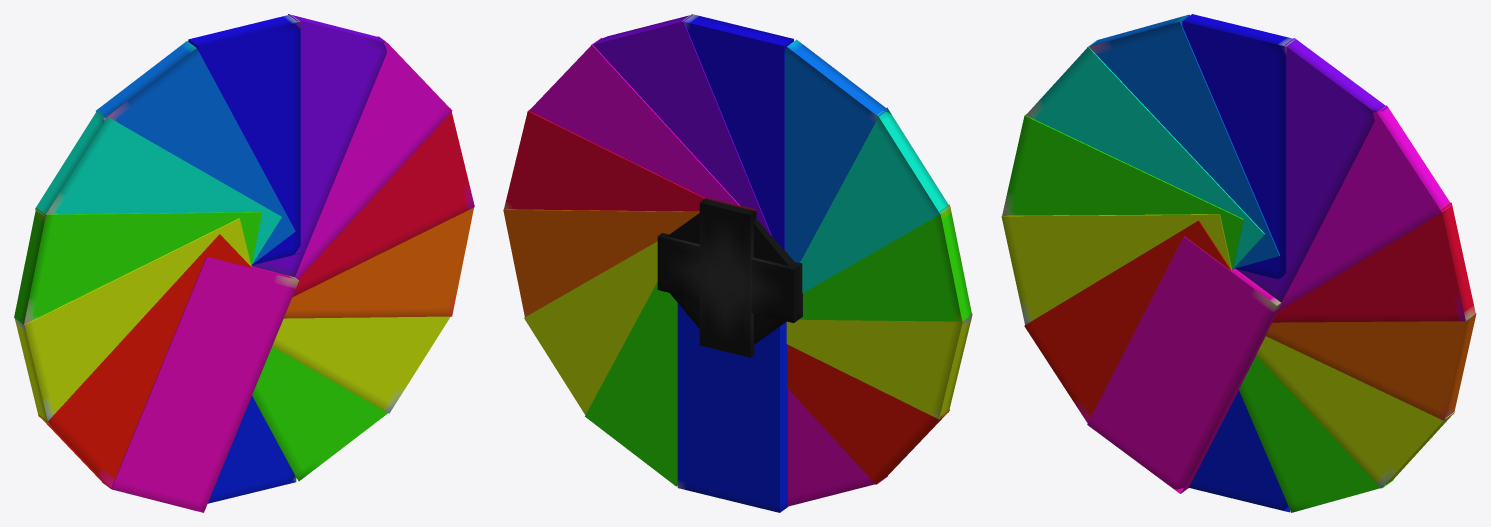
File: fortune_wheel.obj
3 views of the same model, side by side, from view 1: azimuth 30°, elevation 25°; view 2: azimuth 150°, elevation 25°; view 3: azimuth 330°, elevation 25° (orthographic).
Visible parts, largest first — view 1: cube; view 2: cube; view 3: cube.
Boxes of the visible parts, left/top/right/bottom form: cube: left=14, top=14, right=474, bottom=512; cube: left=503, top=14, right=972, bottom=512; cube: left=1001, top=14, right=1476, bottom=512.
Bounding box in the file's own units: 1.67 × 1.63 × 0.1367.
